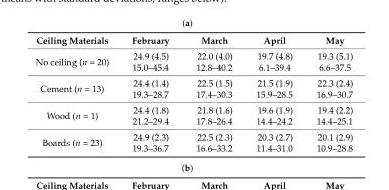table: (34, 34, 352, 153)
table column: (34, 34, 119, 153), (119, 34, 181, 153), (181, 34, 243, 153), (243, 34, 303, 153), (303, 34, 352, 153)
table column header: (34, 34, 352, 47)
table row: (34, 47, 352, 74), (34, 74, 352, 101), (34, 101, 352, 128), (34, 128, 352, 153), (34, 34, 352, 47)
